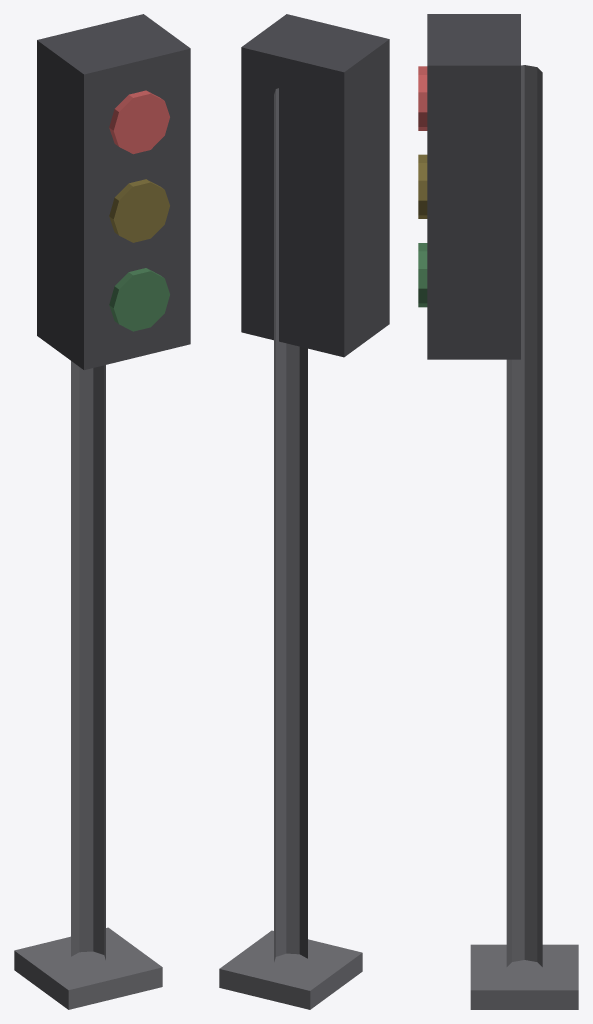
Rendered from semaforo.glb.
3 renders of one model, left to right at view 1: azimuth 30°, elevation 25°; view 2: azimuth 150°, elevation 25°; view 3: azimuth 270°, elevation 25°, orthographic. The views are drawn at different scales.
Visible parts, largest first — view 1: semaforo; view 2: semaforo; view 3: semaforo.
Boxes of the visible parts, x1,y1,x2,y2 form: semaforo: (14, 14, 190, 1009); semaforo: (219, 14, 389, 1009); semaforo: (418, 14, 578, 1009).
Bounding box in the file's own units: 0.34 × 2.9 × 0.445.
